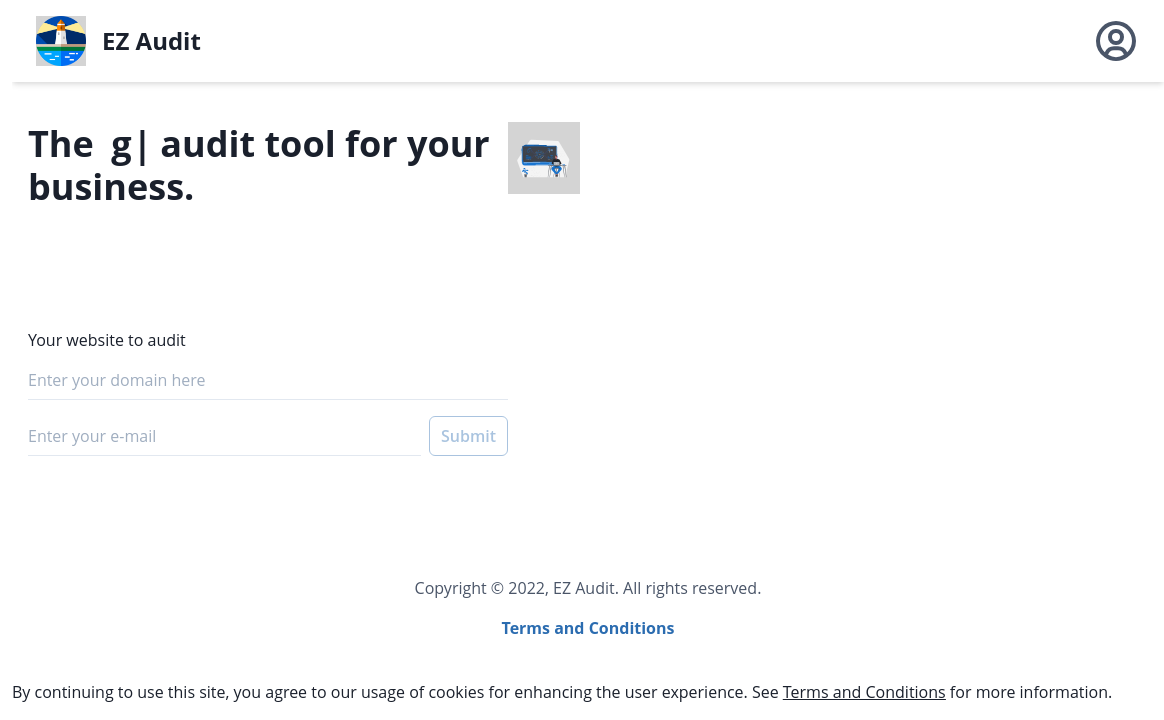
Test: navigates to user dashboard, logs in, and sees an empty Audit list
Expected: the button with test id "submitAuditBtn" is shown, [429,416,508,456]
Expected: the field with test id "submitAuditSiteInput" is shown, [28,360,508,400]
Click the icon with test id "userDashboardBtn".
click(1116, 41)  # box [1092,17,1140,65]
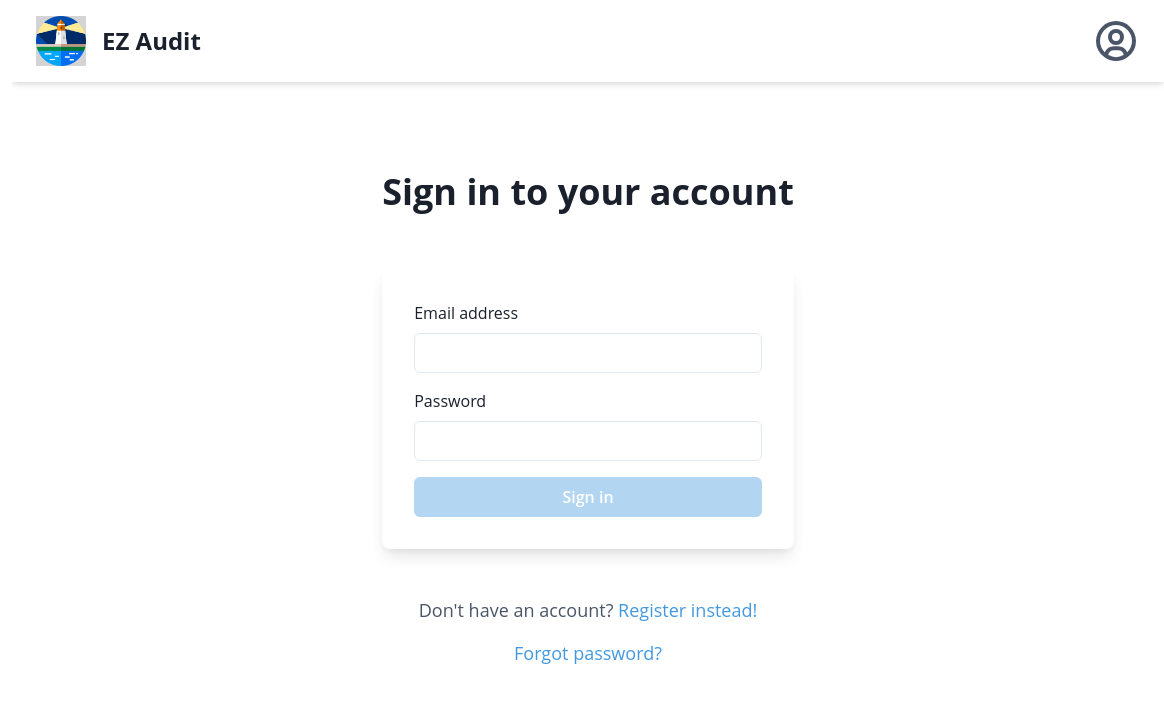
Result: the form with test id "signInForm" is shown at [414,301,762,517]
Type "test-user-1@test.com" into the field with test id "signInEmailInput".
click(588, 353); type("test-user-1@test.com")  # box [414,333,762,373]
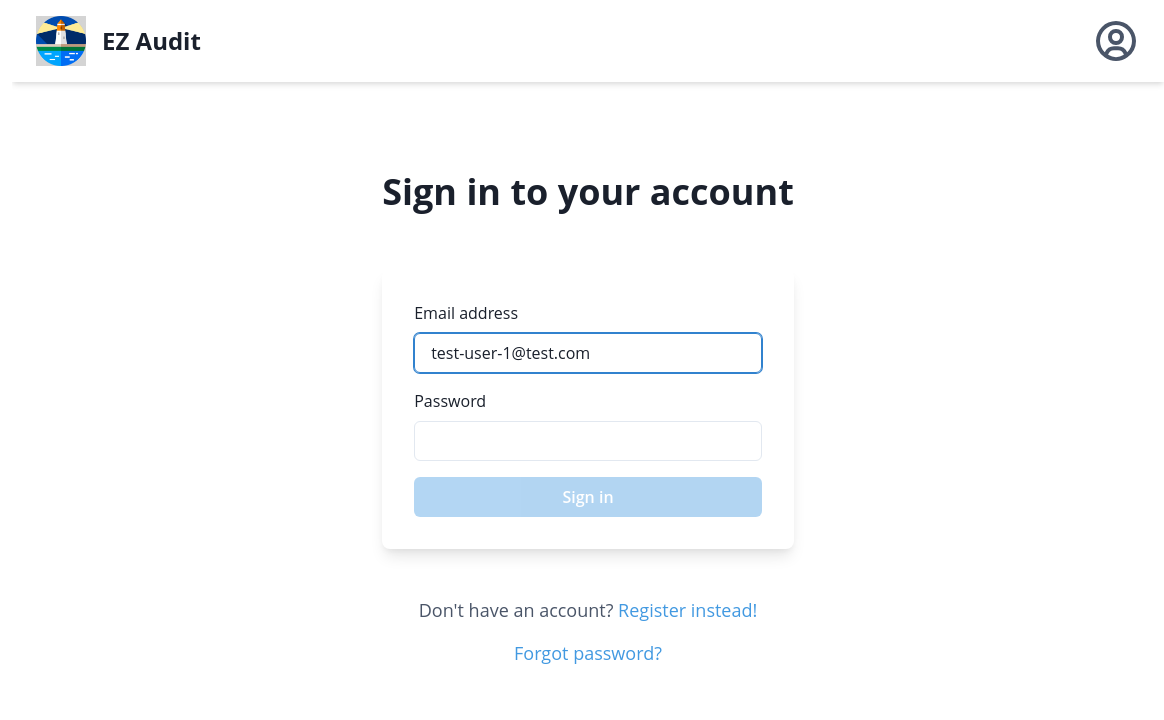
Type "password" into the password field with test id "signInPasswordInput".
click(588, 441); type("password")  # box [414,421,762,461]
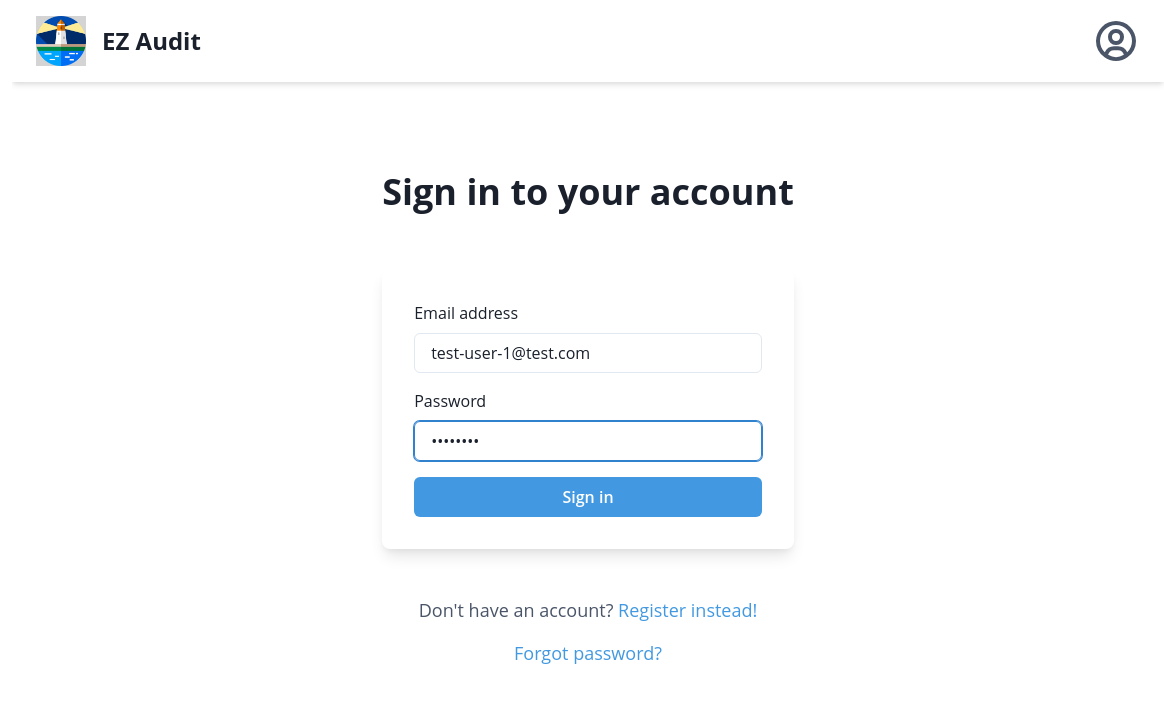
Click the button with test id "signInSubmitButton".
click(588, 497)  # box [414,477,762,517]
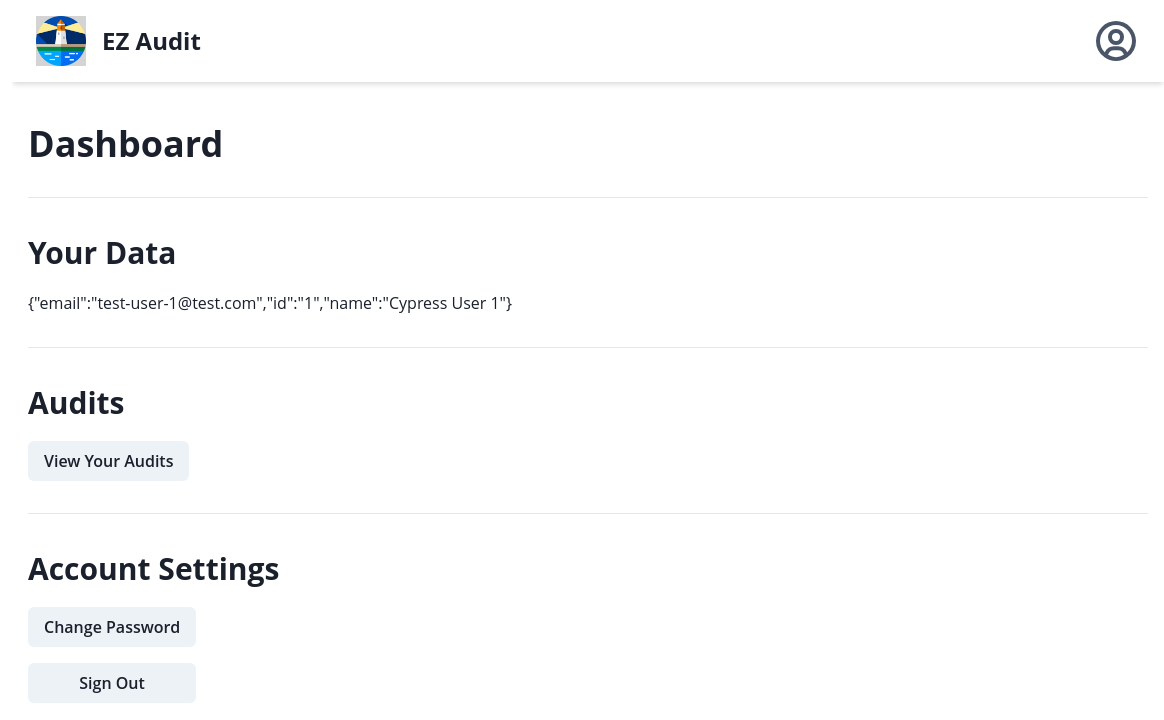
Result: the button with test id "viewAuditsBtn" is shown
Click the button with test id "viewAuditsBtn".
click(109, 461)  # box [28,441,189,481]
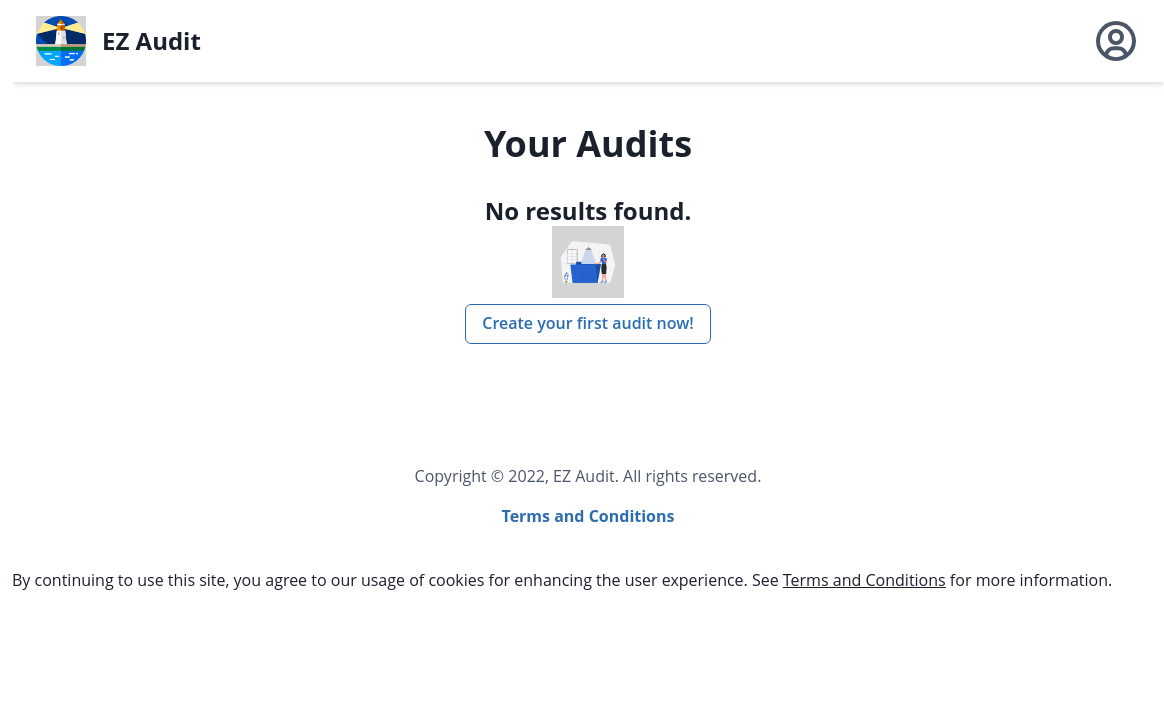
Result: the heading "No results found." is shown at [485,194,691,227]
